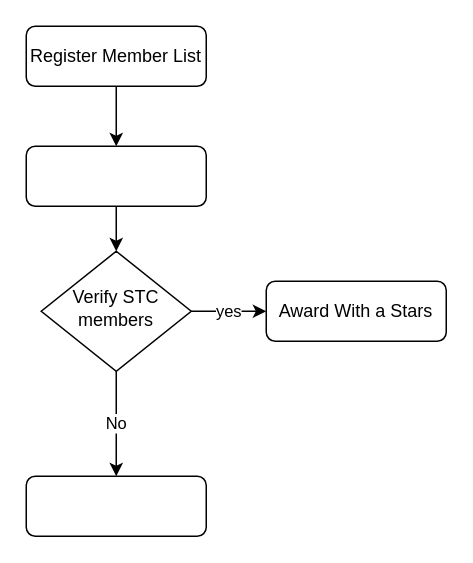
The diagram is 473 pixels wide and 563 high, and some of its shapes have lost their labels. Each missing label, with the centre of its shape:
"Attendance List" goes at point 115,175.
"Repair Lamp" goes at point 115,505.
